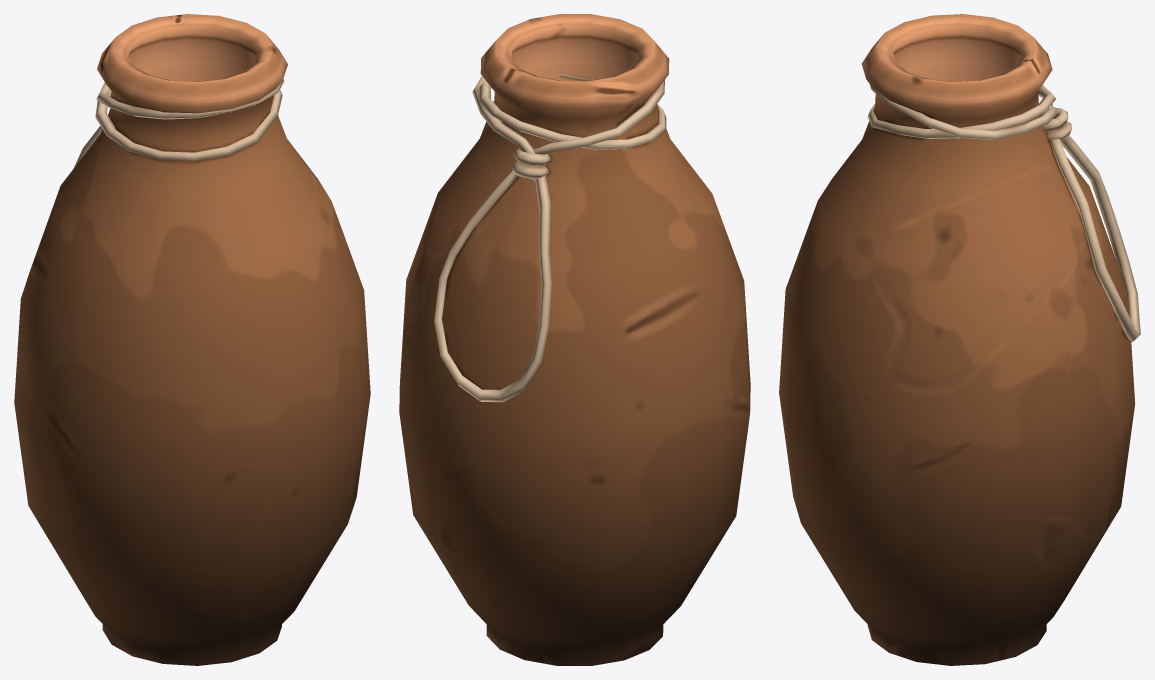
File: Pot_E.fbx
3 renders of one model, left to right at view 1: azimuth 30°, elevation 25°; view 2: azimuth 150°, elevation 25°; view 3: azimuth 270°, elevation 25°, orthographic.
Visible parts, largest first — view 1: U_Pot_E; view 2: U_Pot_E; view 3: U_Pot_E.
Boxes of the visible parts, bbox=[...] form: U_Pot_E: bbox=[14, 14, 370, 665]; U_Pot_E: bbox=[399, 14, 750, 665]; U_Pot_E: bbox=[779, 14, 1140, 665].
Size of the model in its own units: 55.45 by 99.64 by 56.34.
1 material, 1 textured.
